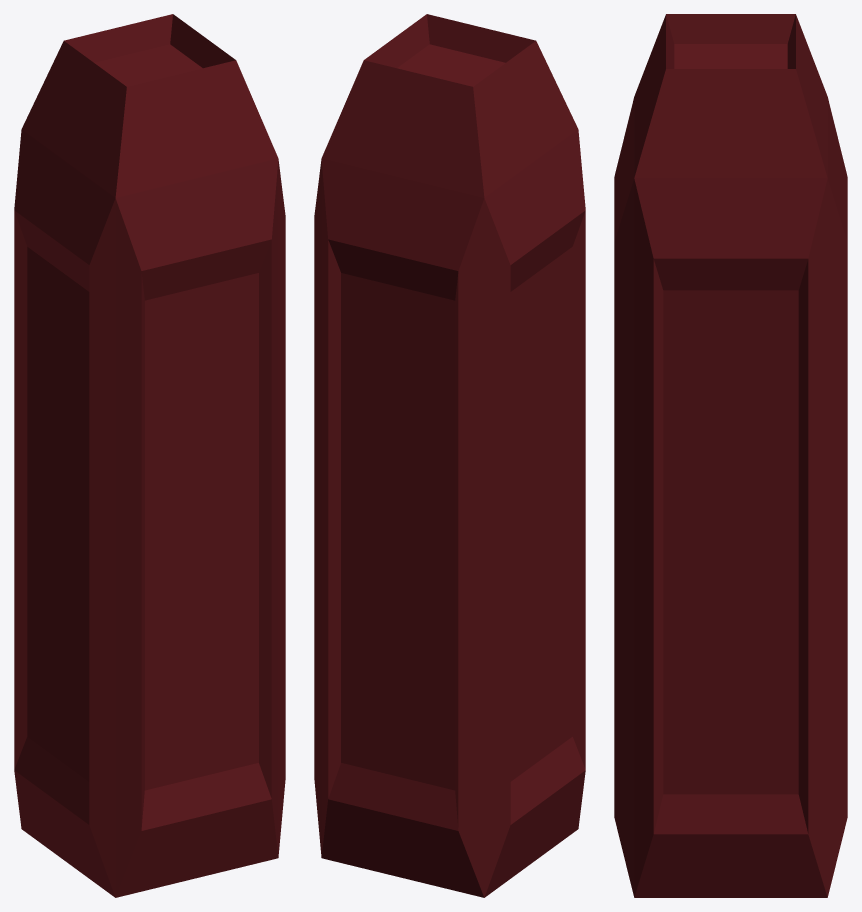
The model's file is 09fpsenemy.obj.
3 views of the same model, side by side, from view 1: azimuth 30°, elevation 25°; view 2: azimuth 150°, elevation 25°; view 3: azimuth 270°, elevation 25° (orthographic). The views are drawn at different scales.
Visible parts, largest first — view 1: Cube.001_Cube.002; view 2: Cube.001_Cube.002; view 3: Cube.001_Cube.002.
Part boxes in pixels (<box>): Cube.001_Cube.002: <box>14,14,285,897</box>; Cube.001_Cube.002: <box>314,14,585,897</box>; Cube.001_Cube.002: <box>614,14,847,897</box>.
Size of the model in its own units: 1.17 by 4.53 by 1.17.
